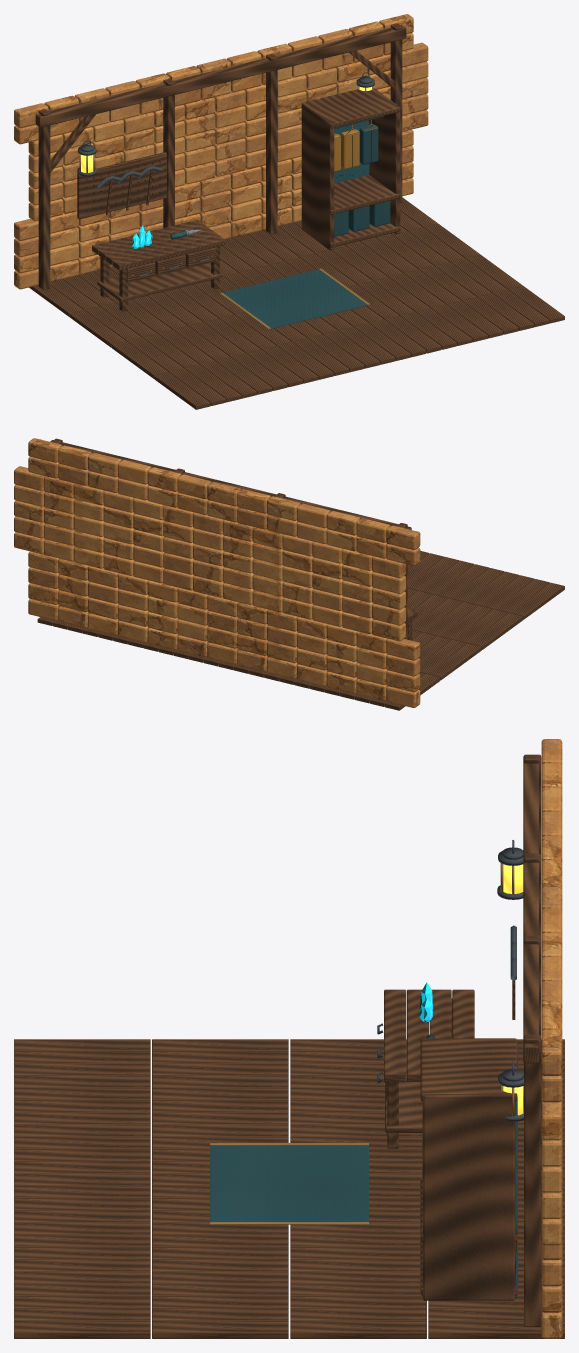
Rendered from home.glb.
3 views of the same model, one above another, from view 1: azimuth 30°, elevation 25°; view 2: azimuth 150°, elevation 25°; view 3: azimuth 270°, elevation 25° (orthographic). The views are drawn at different scales.
Parts seen in each view (by area): view 1: home; view 2: home; view 3: home.
Boxes of the visible parts, x1,y1,x2,y2 form: home: (14, 14, 564, 409); home: (14, 438, 564, 710); home: (14, 739, 564, 1338).
Size of the model in its own units: 11.17 by 4.72 by 7.98.
Materials: 14 (9 with a texture image).
